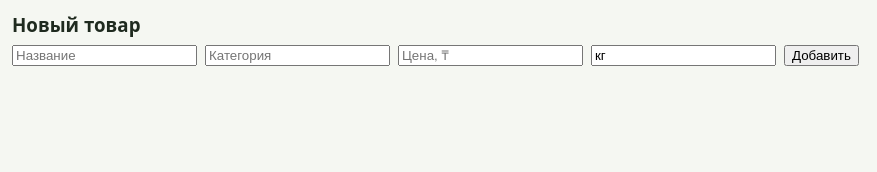
Test case: AddProductForm › отправляет товар с токеном админа, цена уходит числом, форма очищается
Type "Сыр" into the field labelled "Название".
click(104, 56); type("Сыр")  # box [12, 45, 197, 66]
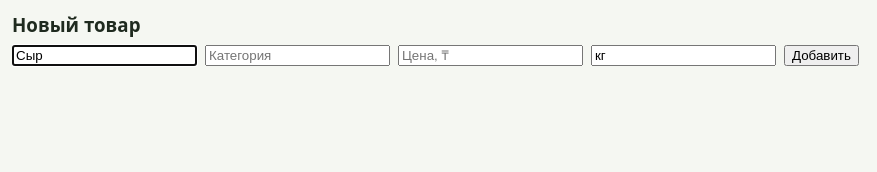
Type "4200" into the number field labelled "Цена".
click(490, 56); type("4200")  # box [398, 45, 583, 66]
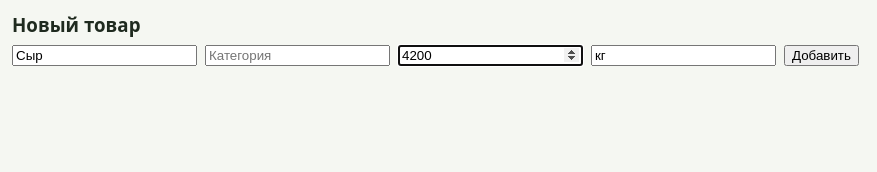
Click the button "Добавить".
click(821, 56)  # box [784, 45, 859, 66]
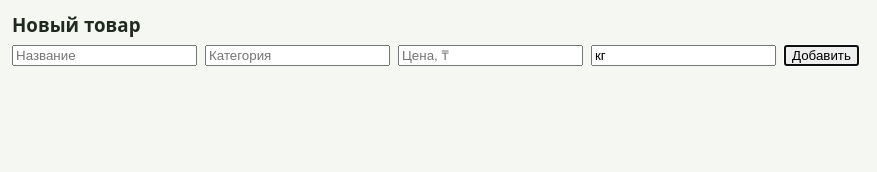
Result: the field labelled "Название" is empty at [12, 45, 197, 66]
